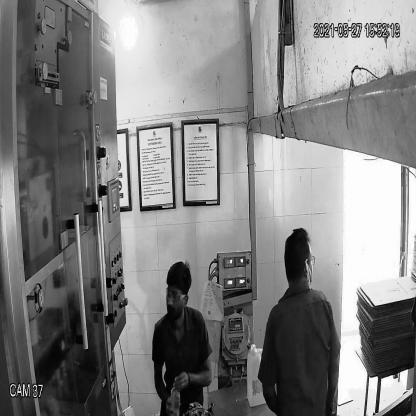goggles: (164, 286, 191, 306)
